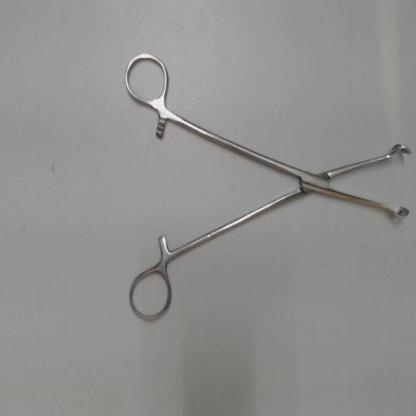8 Babcock Tissue Forceps: (119, 41, 416, 326)
